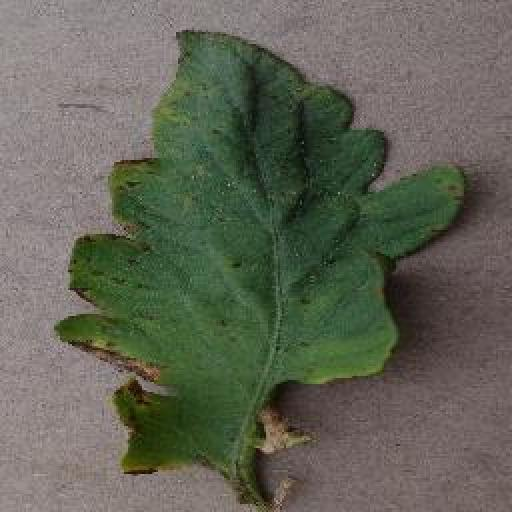Bacterial Spot: (50, 24, 474, 480)
